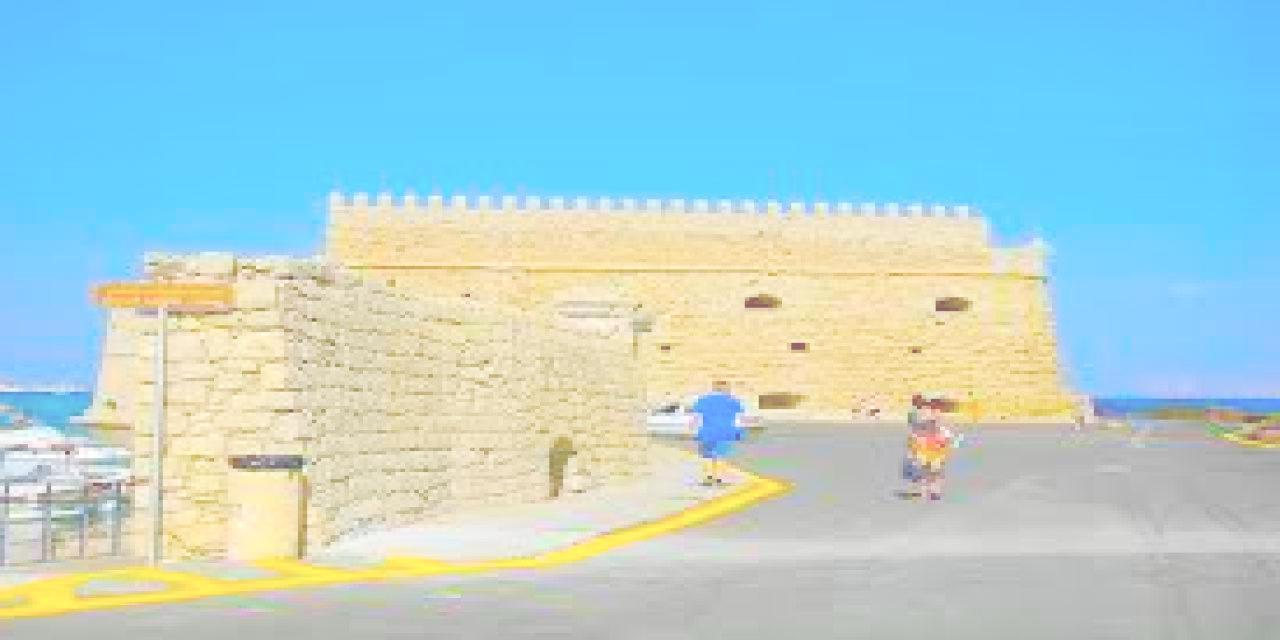Kules: (326, 197, 1095, 425)
